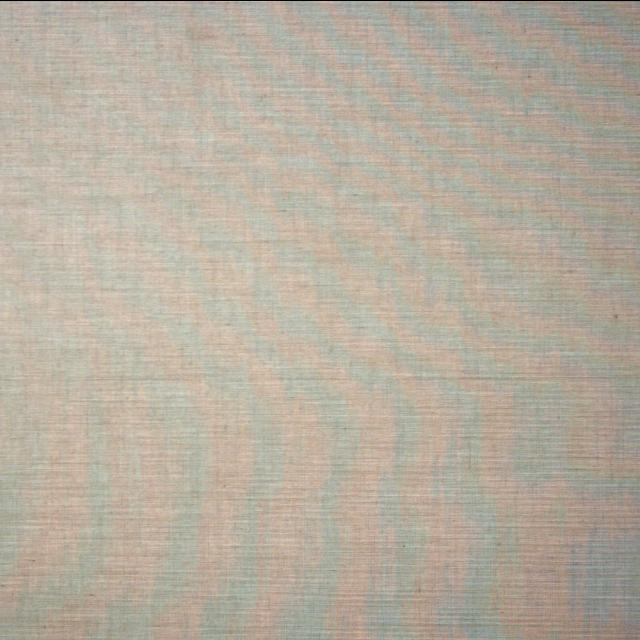dirty: (188, 26, 222, 38), (614, 314, 620, 318)
